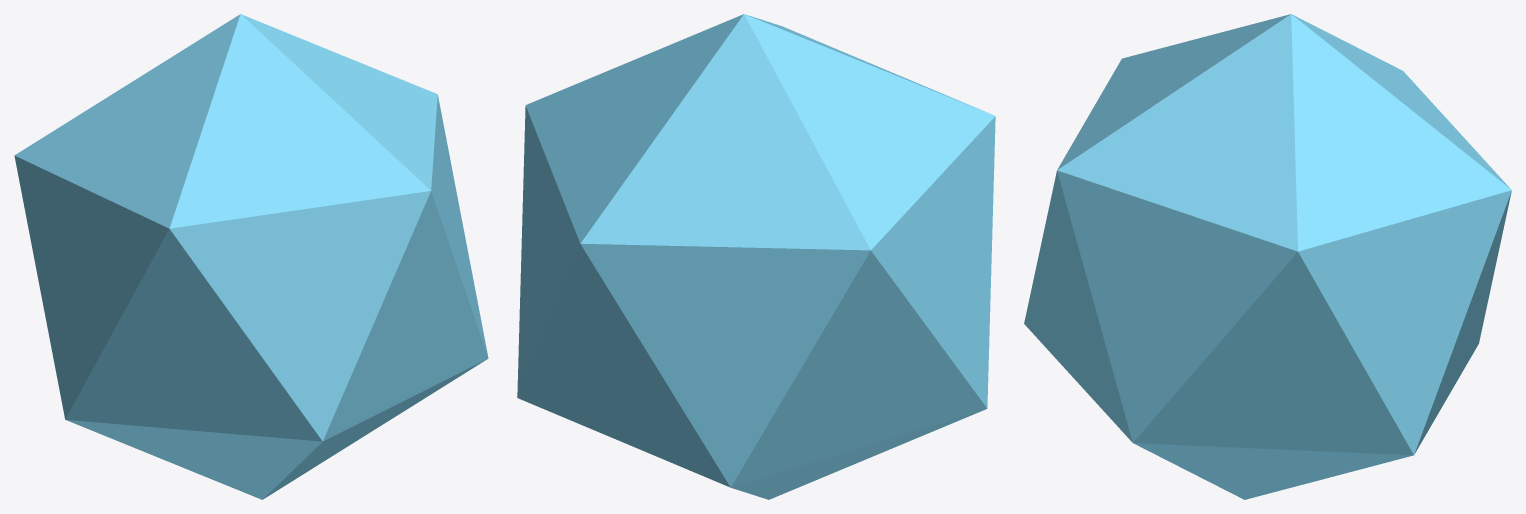
The model's file is hojas.fbx.
The picture shows the model from 3 angles, left to right: view 1: azimuth 30°, elevation 25°; view 2: azimuth 150°, elevation 25°; view 3: azimuth 270°, elevation 25°; orthographic projection. The views are drawn at different scales.
Visible parts, largest first — view 1: p_hoja; view 2: p_hoja; view 3: p_hoja.
Boxes of the visible parts, box(x1,y1,x2,y2) form: p_hoja: box(14, 14, 488, 499); p_hoja: box(517, 14, 995, 499); p_hoja: box(1024, 14, 1511, 499).
Size of the model in its own units: 53.76 by 60.04 by 54.59.
